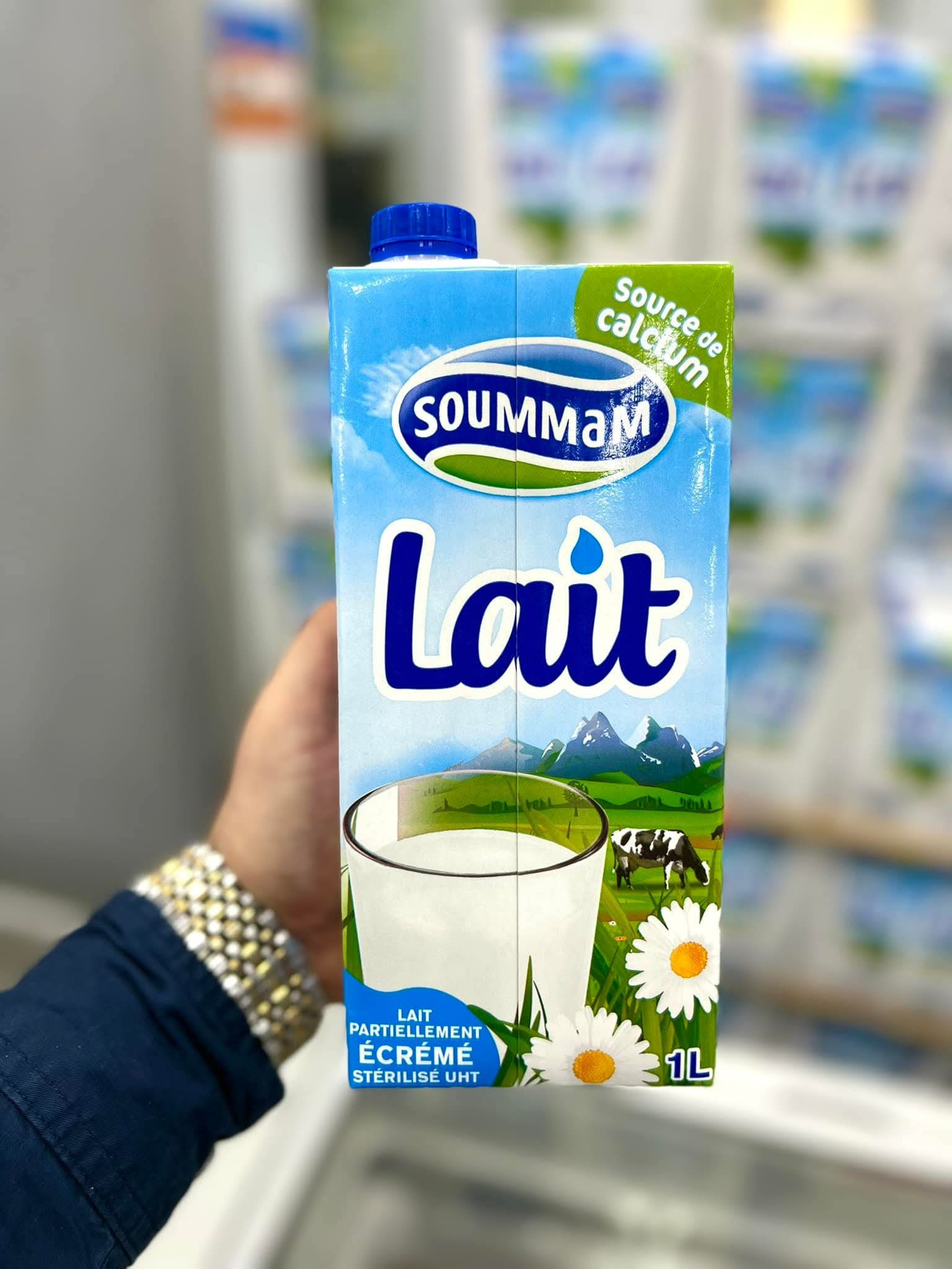soummam_milk: (304, 190, 745, 1099)
